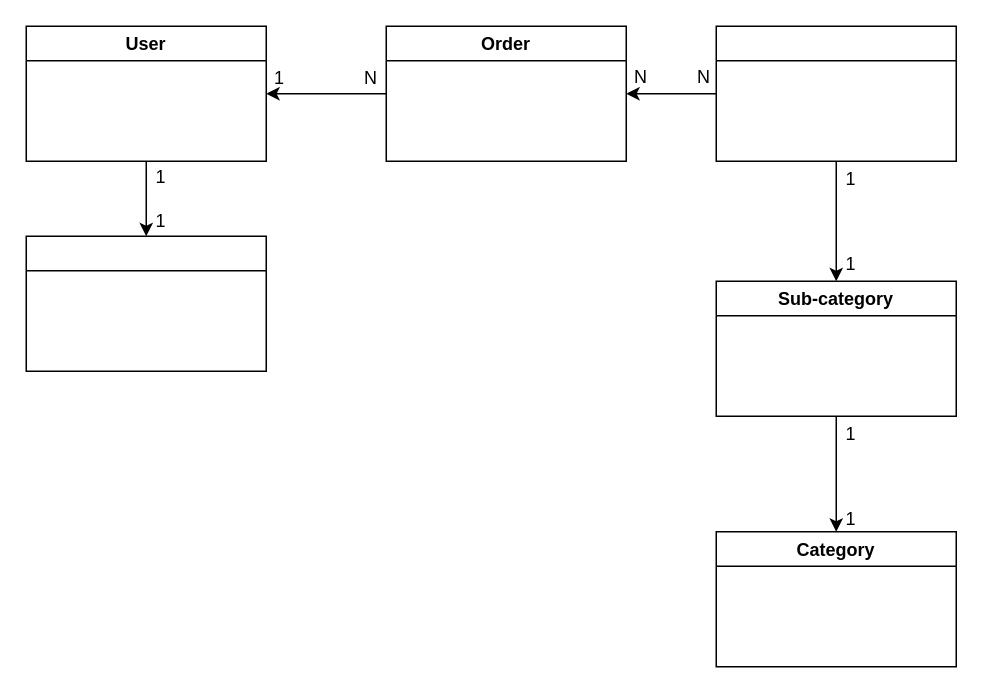
The diagram is 983 pixels wide and 693 high, and some of its shapes have lost their labels. The shapes that lost their labels are listed below. From the top down, each one's centre as x and y in pixels, then its label:
(835,93): Product
(145,303): Profile
